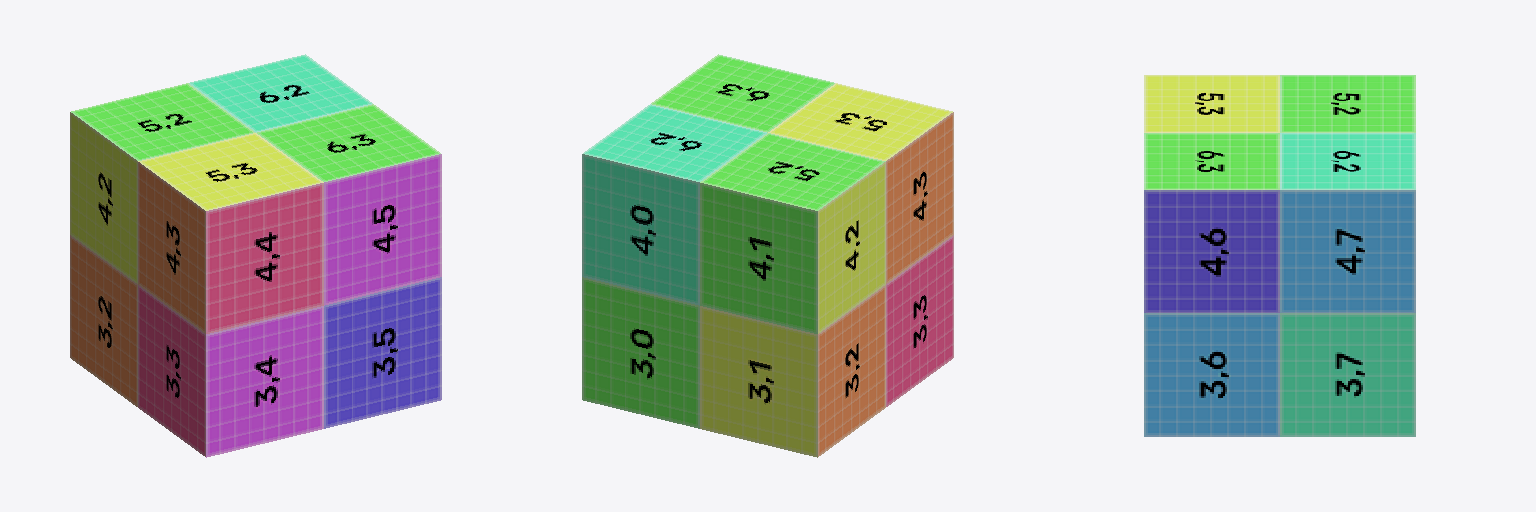
The picture shows the model from 3 angles: view 1: azimuth 30°, elevation 25°; view 2: azimuth 150°, elevation 25°; view 3: azimuth 270°, elevation 25°; orthographic projection.
Visible parts, largest first — view 1: Cube; view 2: Cube; view 3: Cube.
Boxes of the visible parts, x1=… form: Cube: x1=70, y1=54, x2=441, y2=457; Cube: x1=582, y1=54, x2=953, y2=457; Cube: x1=1144, y1=75, x2=1415, y2=436.
Size of the model in its own units: 2 by 2 by 2.
Materials: 1 (1 with a texture image).